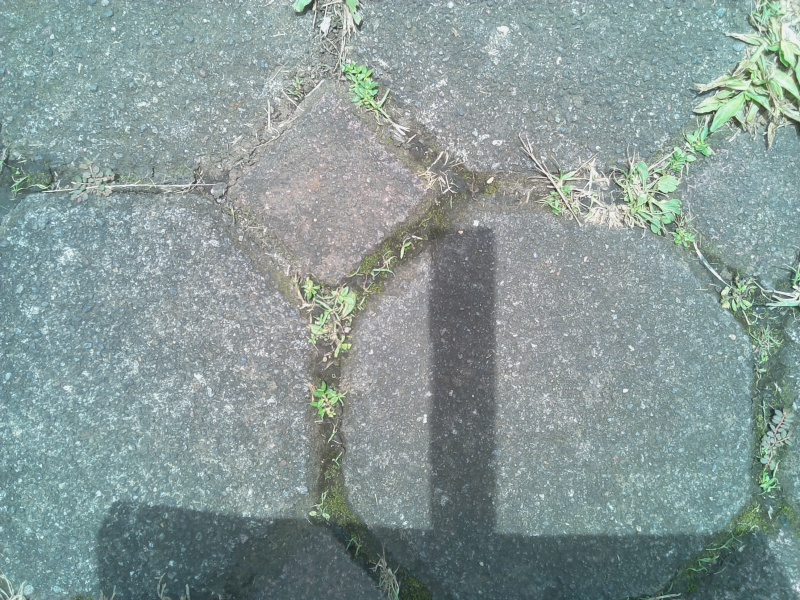Weed: (685, 3, 800, 155), (622, 147, 701, 260), (288, 273, 360, 363), (533, 159, 608, 234), (750, 409, 796, 500), (364, 553, 411, 600), (337, 61, 382, 108), (715, 271, 760, 317), (303, 382, 348, 423), (304, 489, 338, 525)
